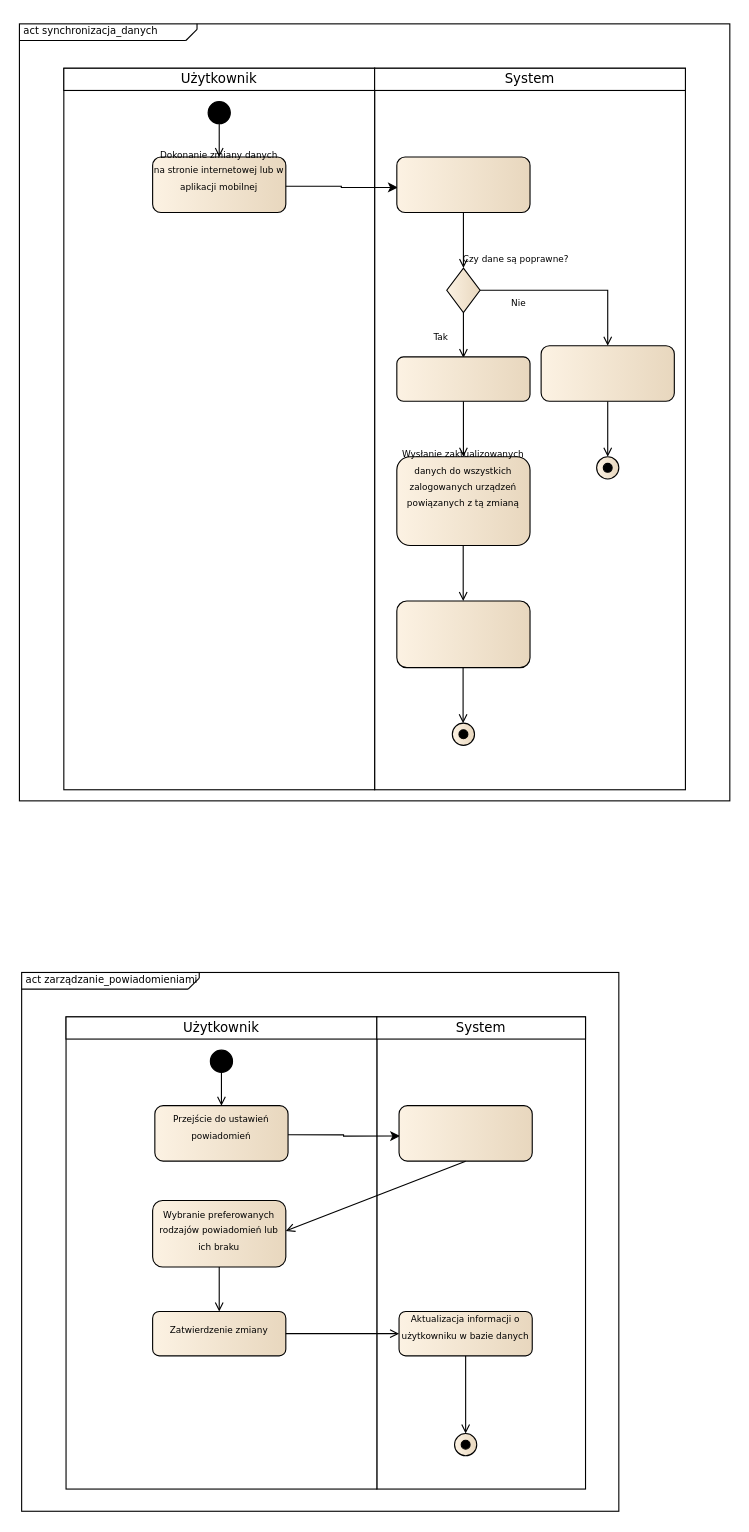
Image size: 749x1532. Some labels were removed from this diagram. The box of each missing label's shape, as (x1, y1, x2, y2) in pixels:
Aktualizacja bazy danych: (396, 356, 530, 401)
Walidacja danych: (396, 156, 530, 213)
Wyświetlenie komunikatu o błędzie podczas płatności: (540, 345, 674, 401)
Wyświetlenie komunikatu o poprawnym obsłużeniu zmiany danych: (396, 600, 530, 668)
Wyświetlenie okna z ustawieniami powiadomień: (398, 1105, 532, 1161)
